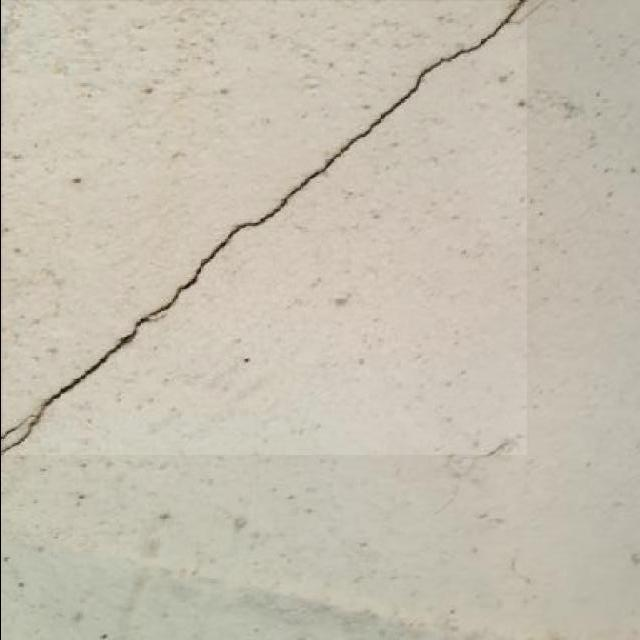crack: (1, 0, 547, 455)
